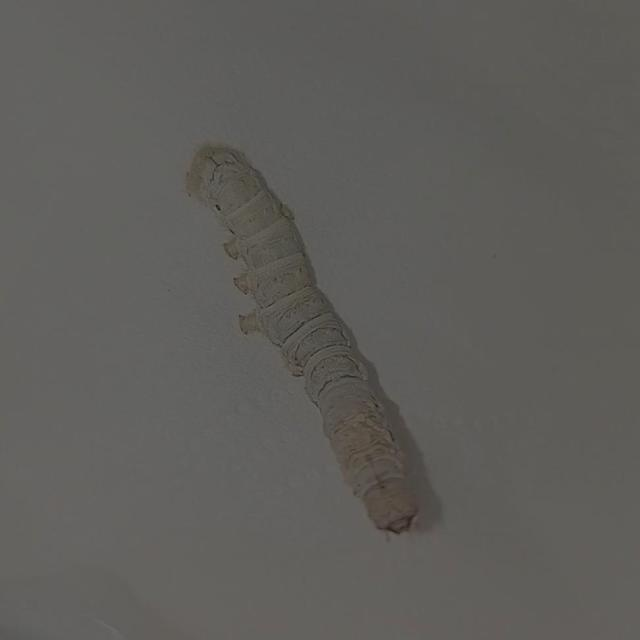Healthy: (166, 114, 459, 554)
